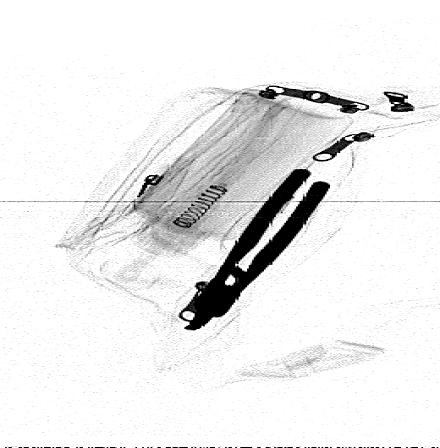Pliers: (184, 169, 335, 332)
